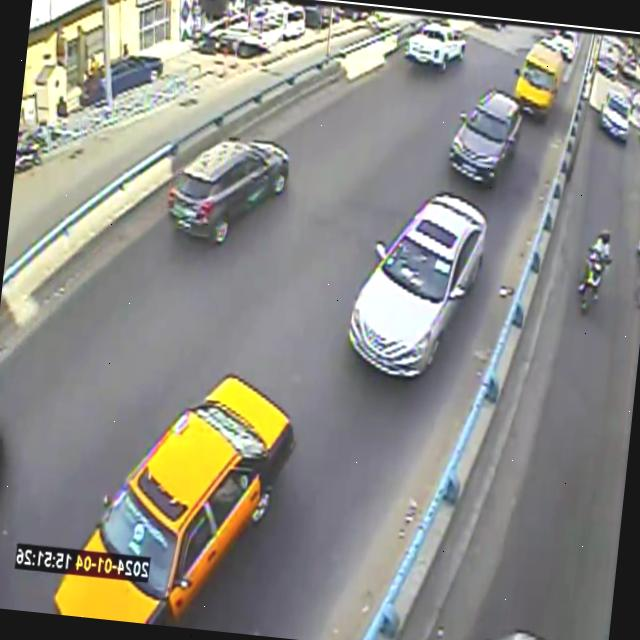car: (55, 376, 294, 625), (349, 193, 487, 377), (168, 138, 289, 243), (450, 88, 521, 185), (514, 43, 564, 119), (405, 21, 465, 71)
